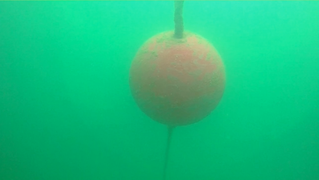buoy: (128, 30, 226, 126)
